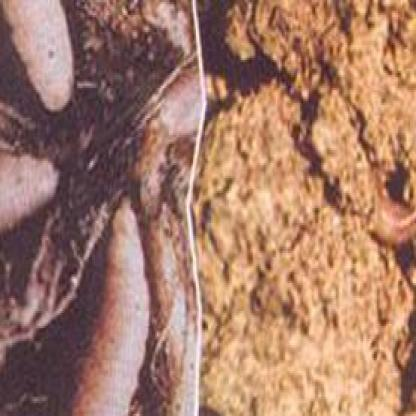whorl-maggot: (69, 205, 157, 414), (1, 10, 80, 108)
